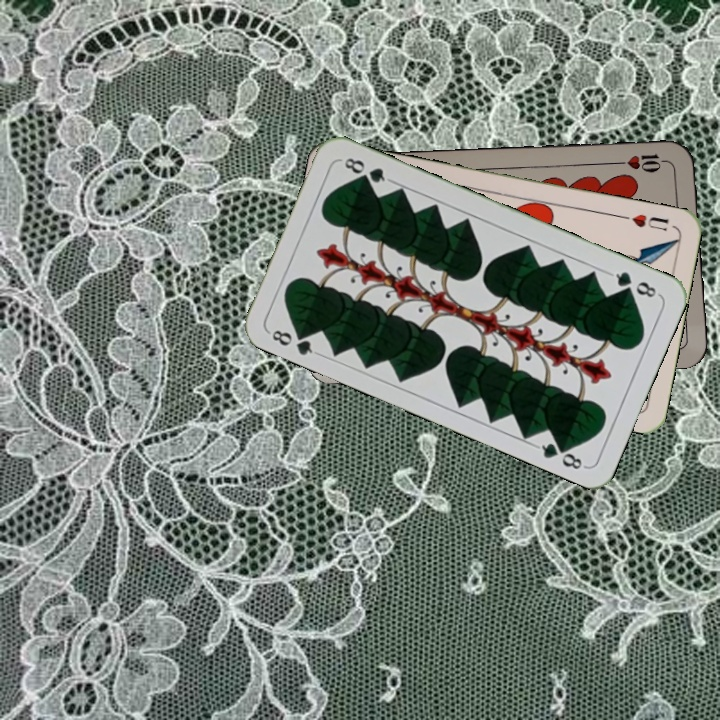G8: (606, 267, 662, 300), (267, 325, 321, 358)
H10: (613, 150, 672, 175)
HU: (617, 209, 671, 234)
